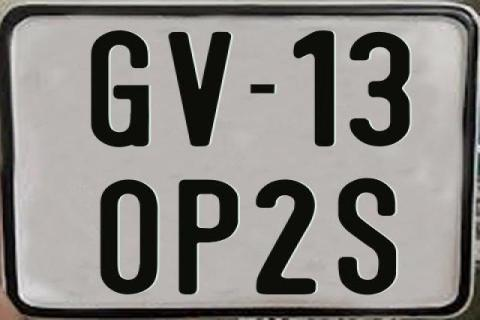0: (99, 178, 162, 298), (347, 30, 413, 144), (253, 178, 314, 298), (291, 29, 335, 145)
G: (90, 28, 152, 149)
P: (176, 177, 236, 297)
S: (337, 178, 401, 298)
V: (168, 31, 231, 147)
